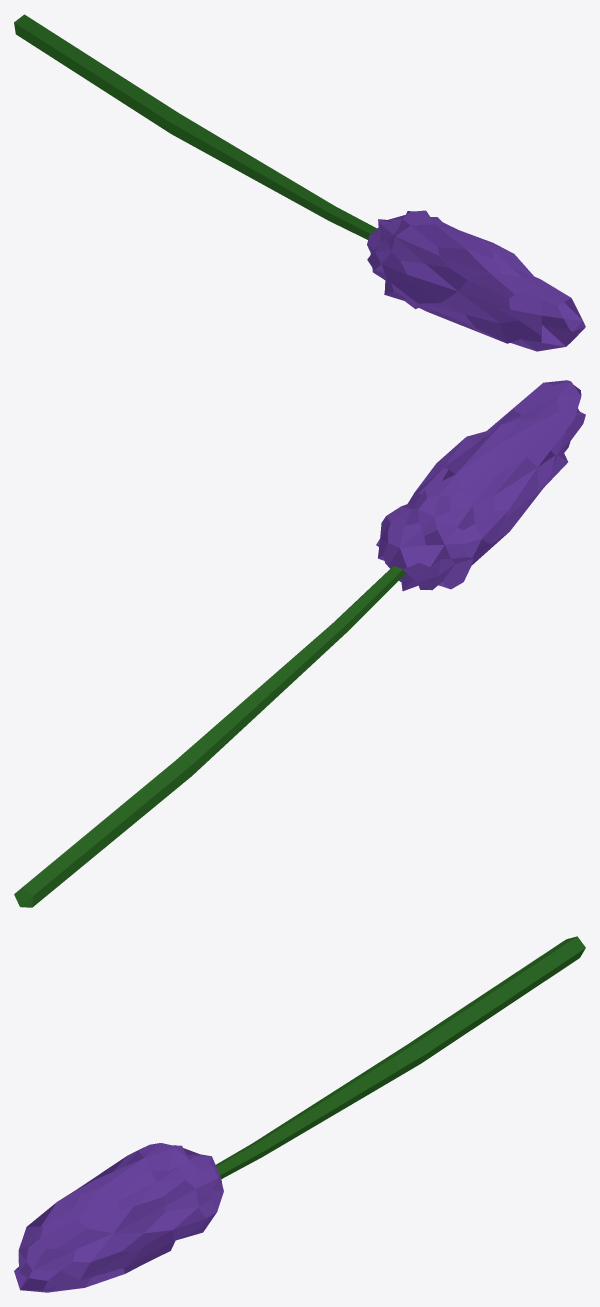
The model's file is Lavendel_short.dae.
3 renders of one model, top to bottom at view 1: azimuth 30°, elevation 25°; view 2: azimuth 150°, elevation 25°; view 3: azimuth 330°, elevation 25°, orthographic. The views are drawn at different scales.
Parts seen in each view (by area): view 1: polySurface1, polySurface2; view 2: polySurface1, polySurface2; view 3: polySurface1, polySurface2.
Boxes of the visible parts, bbox=[...] form: polySurface1: bbox=[367, 210, 585, 351]; polySurface2: bbox=[14, 14, 376, 239]; polySurface1: bbox=[376, 380, 585, 591]; polySurface2: bbox=[14, 566, 405, 907]; polySurface1: bbox=[14, 1143, 223, 1292]; polySurface2: bbox=[216, 936, 585, 1178].
Size of the model in its own units: 7.69 by 10.12 by 82.5.
